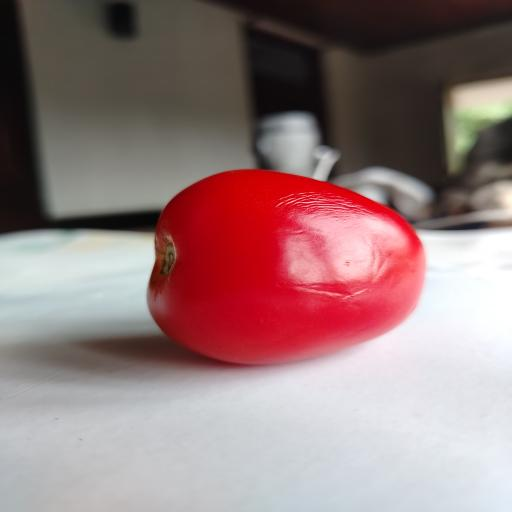overipe: (147, 169, 425, 364)
